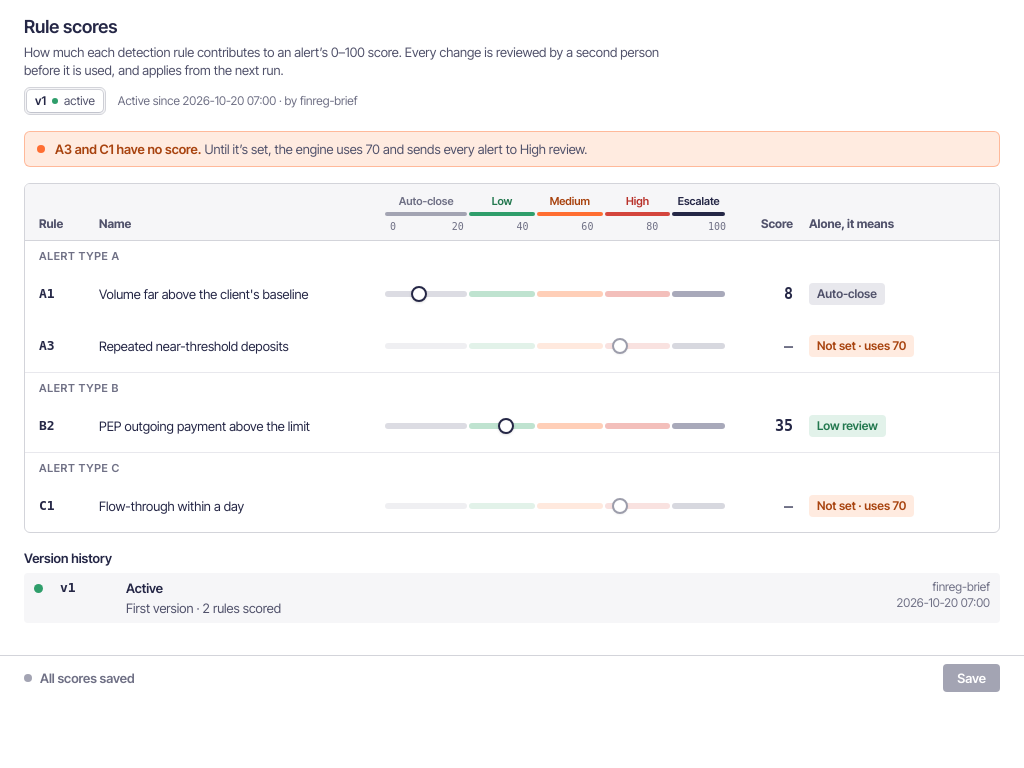
TriageScoringPage › moves a slider without sending anything to the engine
Set the slider named "Score for A1" to "30" at (490,294), box [385,282,725,306]
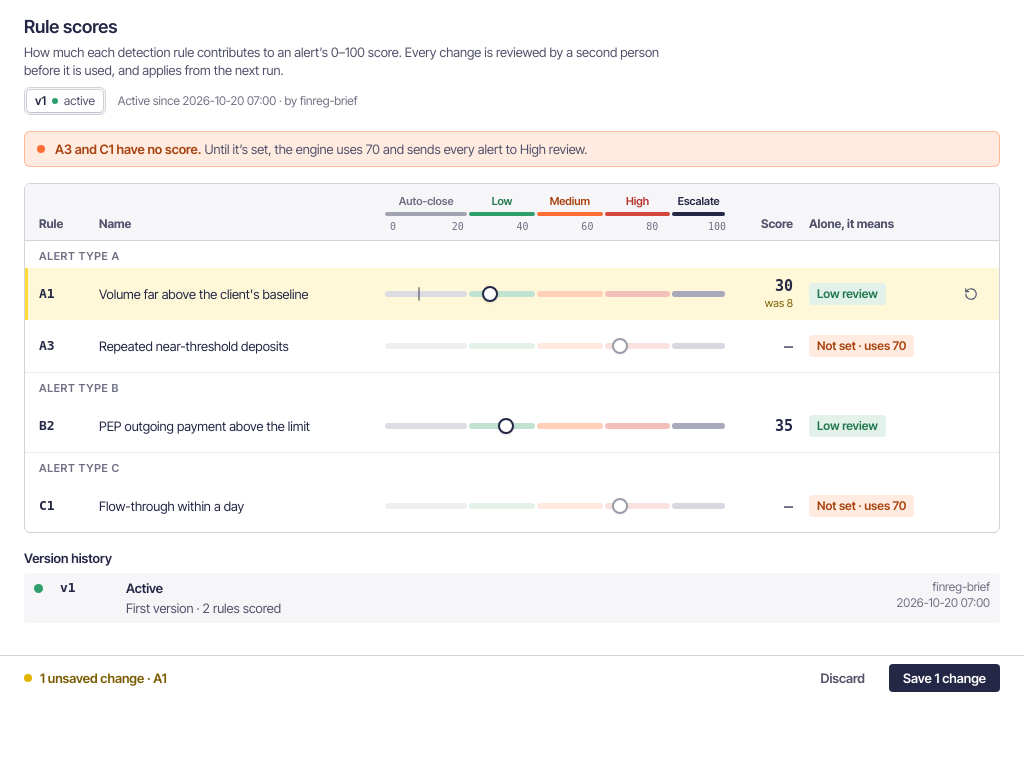
Expected: the button named "Revert A1" is shown, [957,280,985,308]
